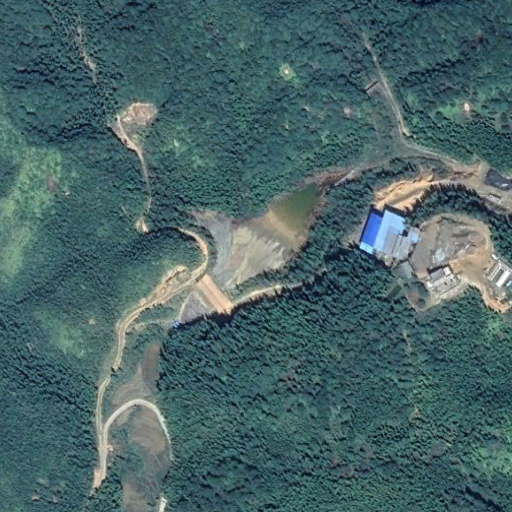tp: (186, 158, 368, 317)
